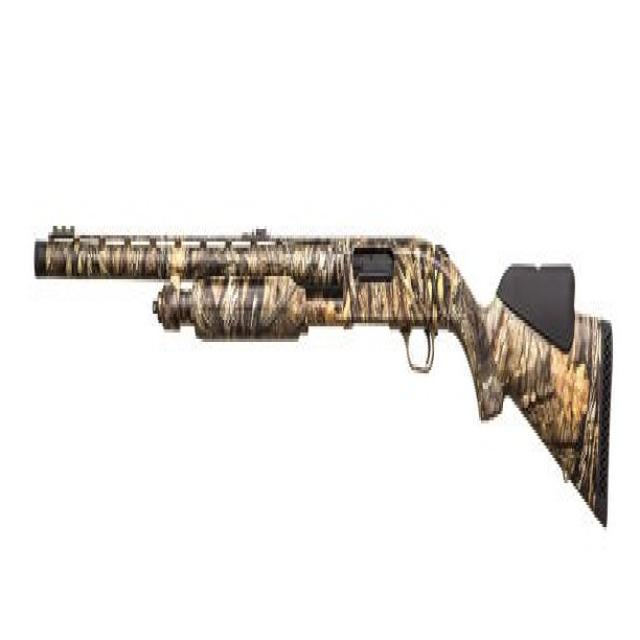rifle: (30, 199, 620, 539)
